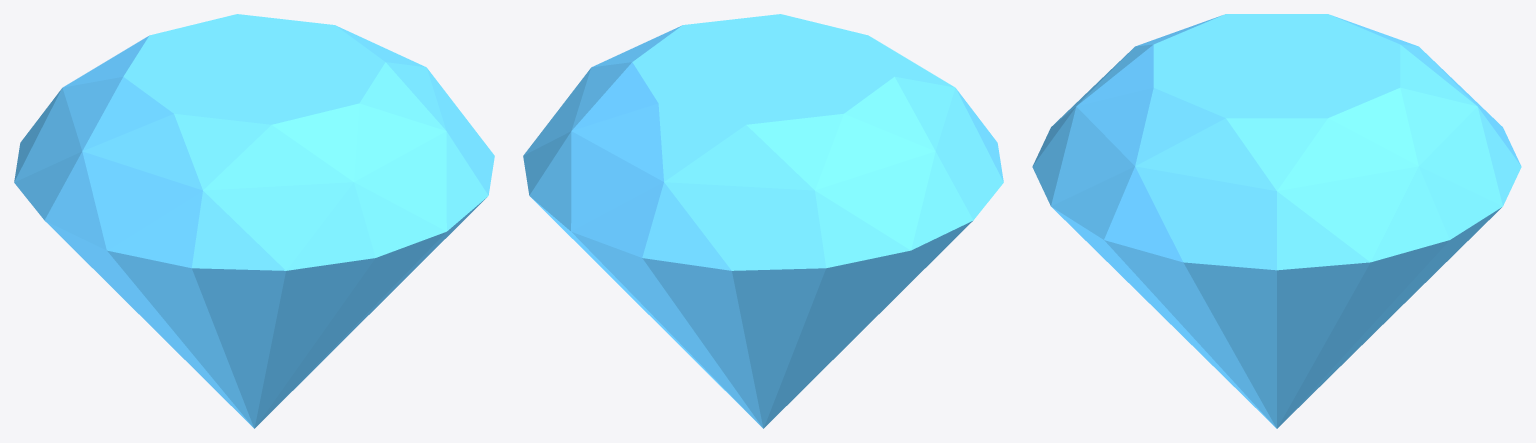
The model's file is gem.fbx.
The picture shows the model from 3 angles, left to right: view 1: azimuth 30°, elevation 25°; view 2: azimuth 150°, elevation 25°; view 3: azimuth 270°, elevation 25°; orthographic projection.
Visible parts, largest first — view 1: Gem; view 2: Gem; view 3: Gem.
Part boxes in pixels (x1,y1,x2,y2): Gem: [14, 14, 494, 428]; Gem: [523, 14, 1003, 428]; Gem: [1032, 14, 1521, 428].
Bounding box in the file's own units: 0.44 × 0.36 × 0.44.
